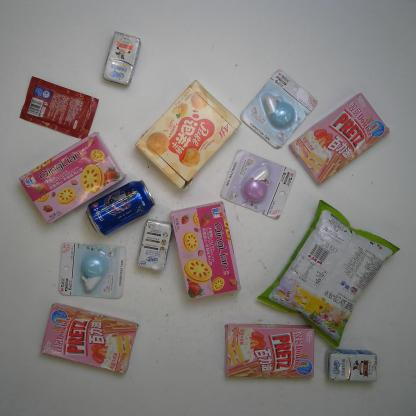Dessert: (135, 79, 242, 192), (19, 132, 126, 225), (288, 92, 390, 184), (40, 302, 140, 375), (171, 200, 241, 301), (224, 323, 314, 378)
Drink: (86, 179, 156, 237)
Milk: (103, 31, 141, 87), (137, 219, 173, 271), (325, 349, 377, 382)
Puffed Food: (257, 199, 400, 347)
Seasoner: (19, 76, 99, 140)
Stationery: (239, 69, 318, 150), (220, 150, 296, 219), (58, 242, 126, 299)
